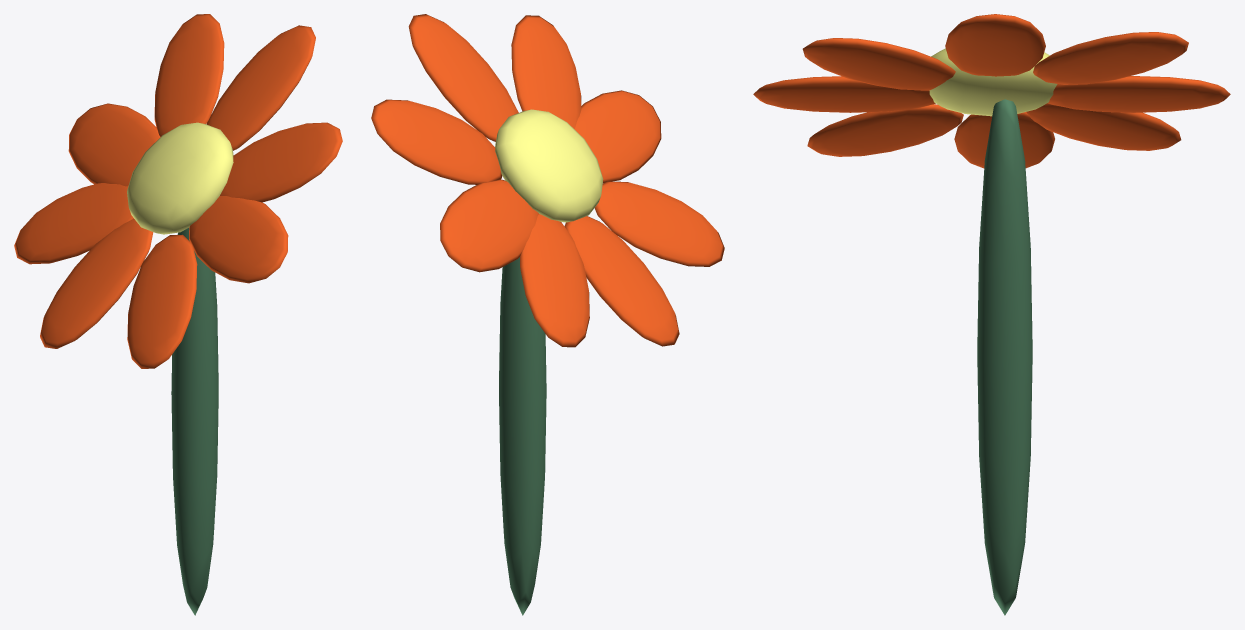
The model's file is flower3.fbx.
3 views of the same model, side by side, from view 1: azimuth 30°, elevation 25°; view 2: azimuth 150°, elevation 25°; view 3: azimuth 270°, elevation 25° (orthographic). The views are drawn at different scales.
Parts seen in each view (by area): view 1: Flower; view 2: Flower; view 3: Flower.
Part boxes in pixels (left/top/right/bottom): Flower: left=14, top=14, right=342, bottom=615; Flower: left=371, top=14, right=724, bottom=615; Flower: left=753, top=14, right=1230, bottom=615.
Bounding box in the file's own units: 56.73 × 117 × 75.9.
